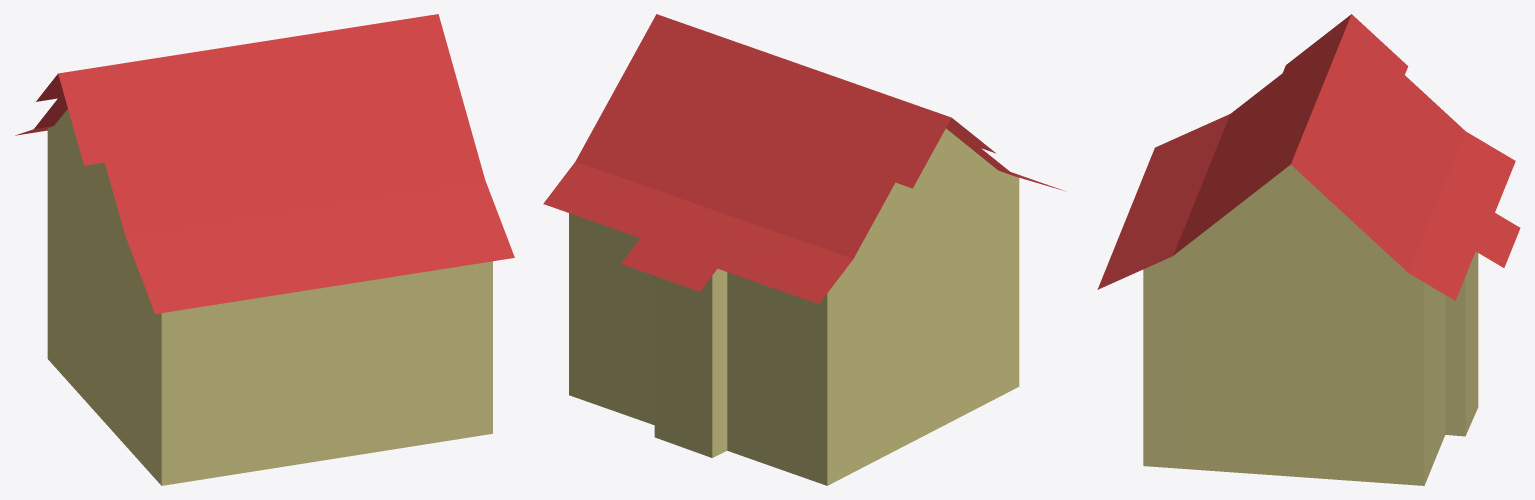
The picture shows the model from 3 angles, left to right: view 1: azimuth 30°, elevation 25°; view 2: azimuth 150°, elevation 25°; view 3: azimuth 270°, elevation 25°; orthographic projection. The views are drawn at different scales.
Size of the model in its own units: 16.74 by 17.8 by 14.56.
